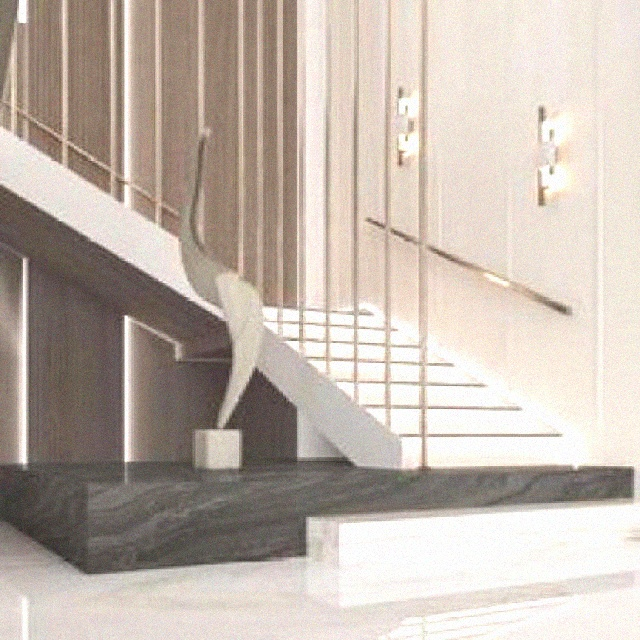stair: (191, 160, 618, 565)
